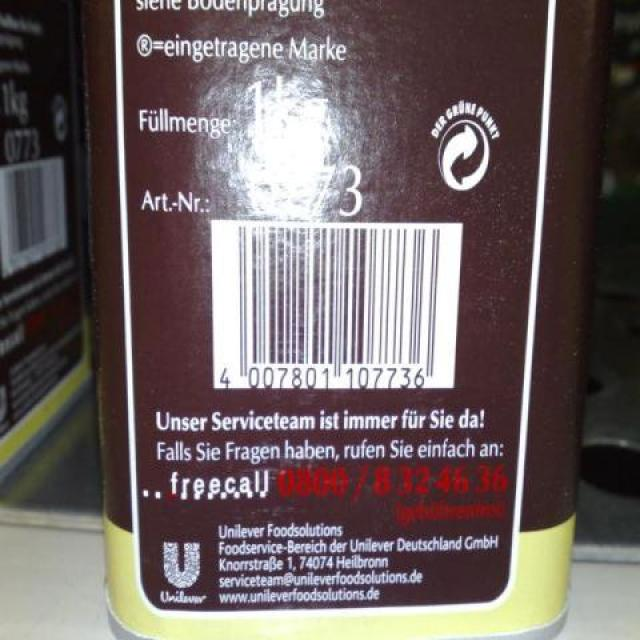Barcode: (212, 220, 464, 391)
